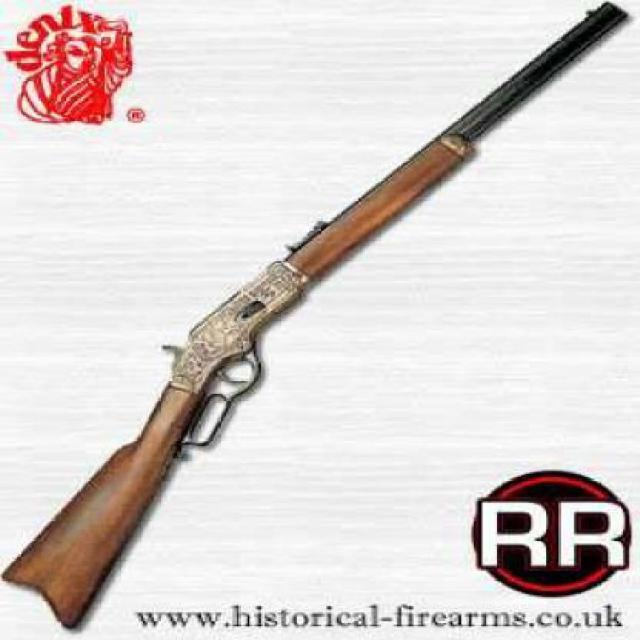weapon: (1, 0, 624, 626)
